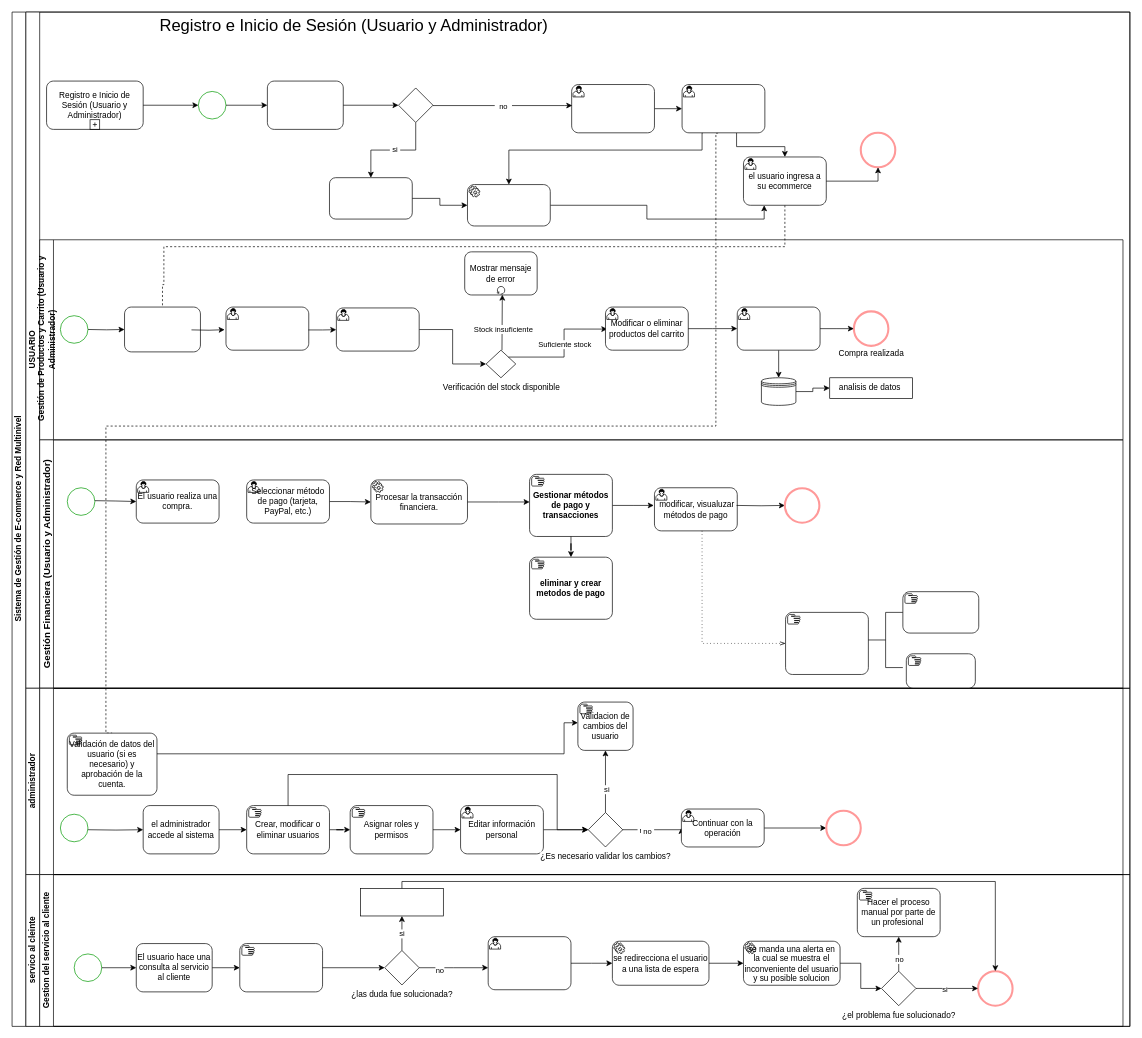
Image size: 1142x1038. Some labels were removed from this diagram. Each missing label, with the centre of its shape:
Agregar productos al carrito: pixel 377 329
Ajustar inventario: pixel 940 670
Autenticación del usuario .: pixel 508 205
Buscar productos mediante el motor de búsqueda: pixel 267 328
Confirmar compra y seleccionar opciones de envío: pixel 778 328
Crear, editar, eliminar productos: pixel 940 612
el servicio respone a la duda del cleinte: pixel 281 967
el usuario accede al sistema: pixel 305 104
El usuario navega por el catálogo de productos.: pixel 162 329
el usuario sigue con inconvenientes en el software: pixel 529 963
Gestionar productos, categorías y subcategorías: pixel 826 643
Gestión de Usuarios: pixel 581 781
Ingreso de credenciales: pixel 723 108
Ingreso de credenciales (usuario y contraseña).: pixel 370 198
la consulta fue solucionada: pixel 401 902
Registro de nuevo usuario: pixel 612 108
¿el usuario se encuentra registado?: pixel 415 104
